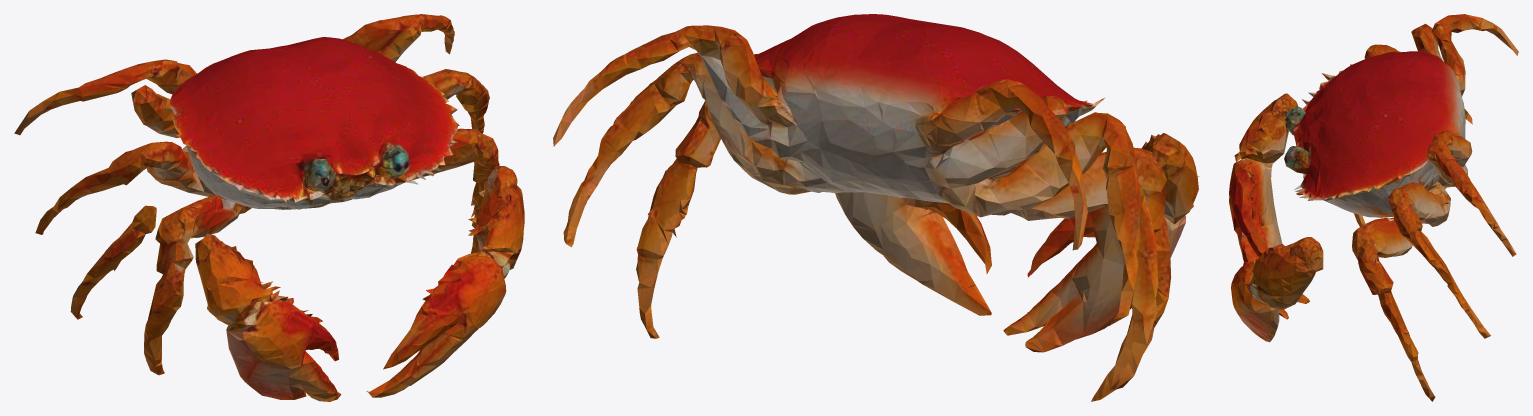
File: crab.glb
3 views of the same model, side by side, from view 1: azimuth 30°, elevation 25°; view 2: azimuth 150°, elevation 25°; view 3: azimuth 270°, elevation 25° (orthographic). The views are drawn at different scales.
Visible parts, largest first — view 1: crab; view 2: crab; view 3: crab.
Boxes of the visible parts, x1,y1,x2,y2 form: crab: [14, 14, 524, 401]; crab: [553, 14, 1199, 401]; crab: [1229, 14, 1518, 401].
Size of the model in its own units: 1.99 by 1.24 by 1.27.
Materials: 1 (1 with a texture image).
